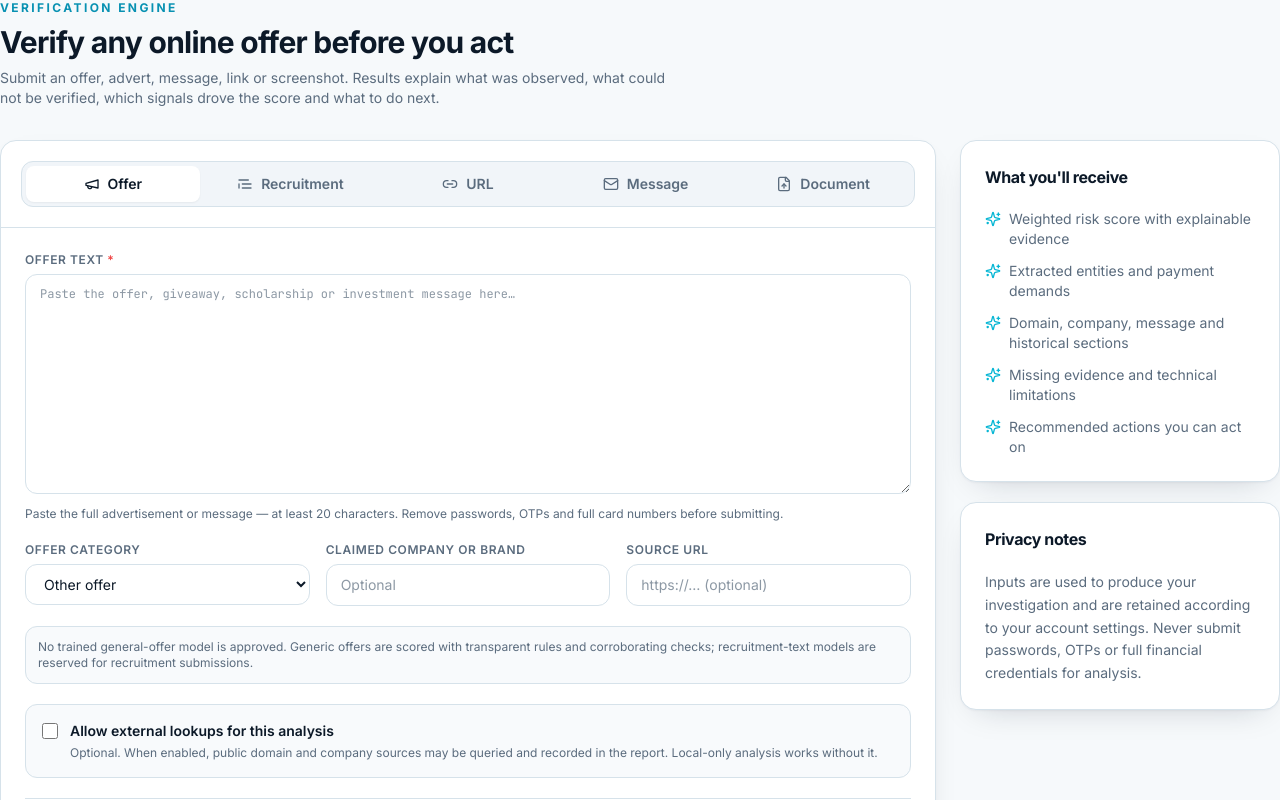
analysis workflow › validates URLs before submitting a URL analysis
Click the tab "URL": (468, 184) [381, 166, 555, 202]
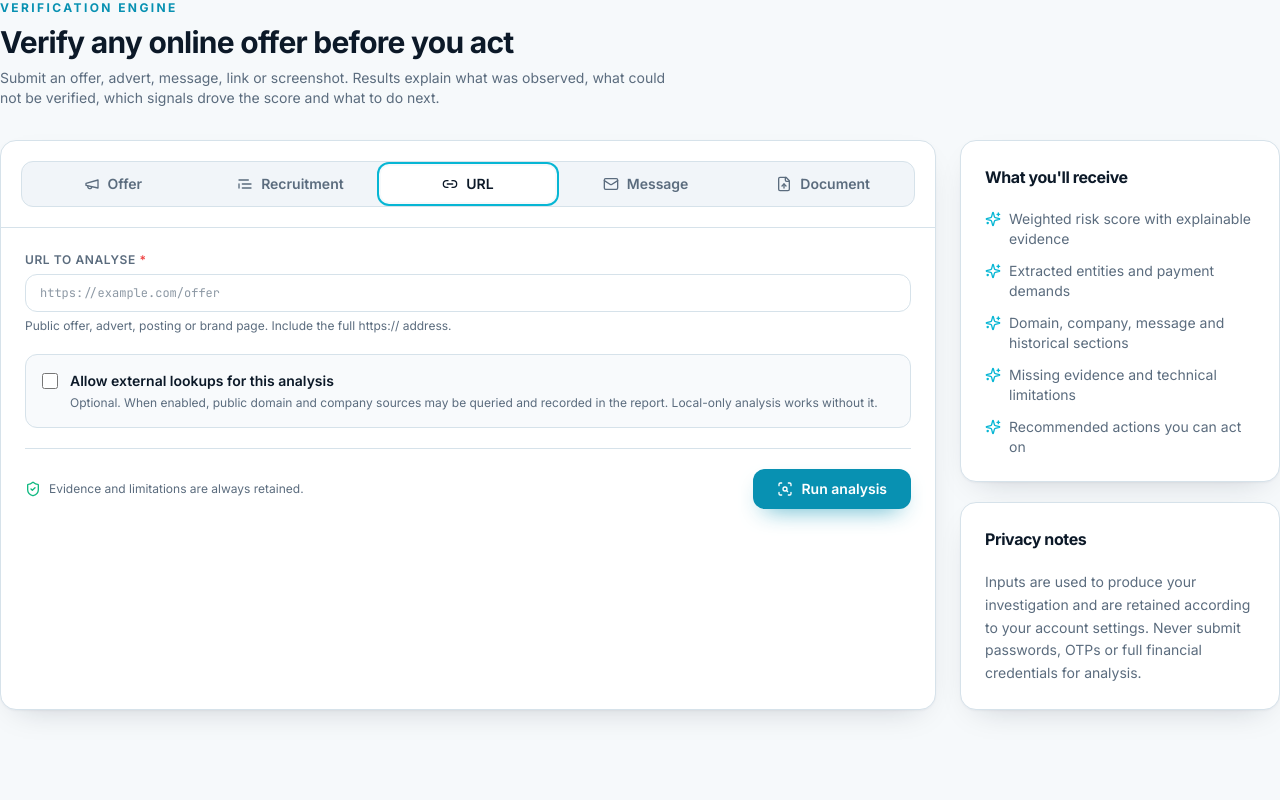
In the field labelled "URL to analyse *": (468, 293) [25, 274, 911, 312], type "not-a-url"
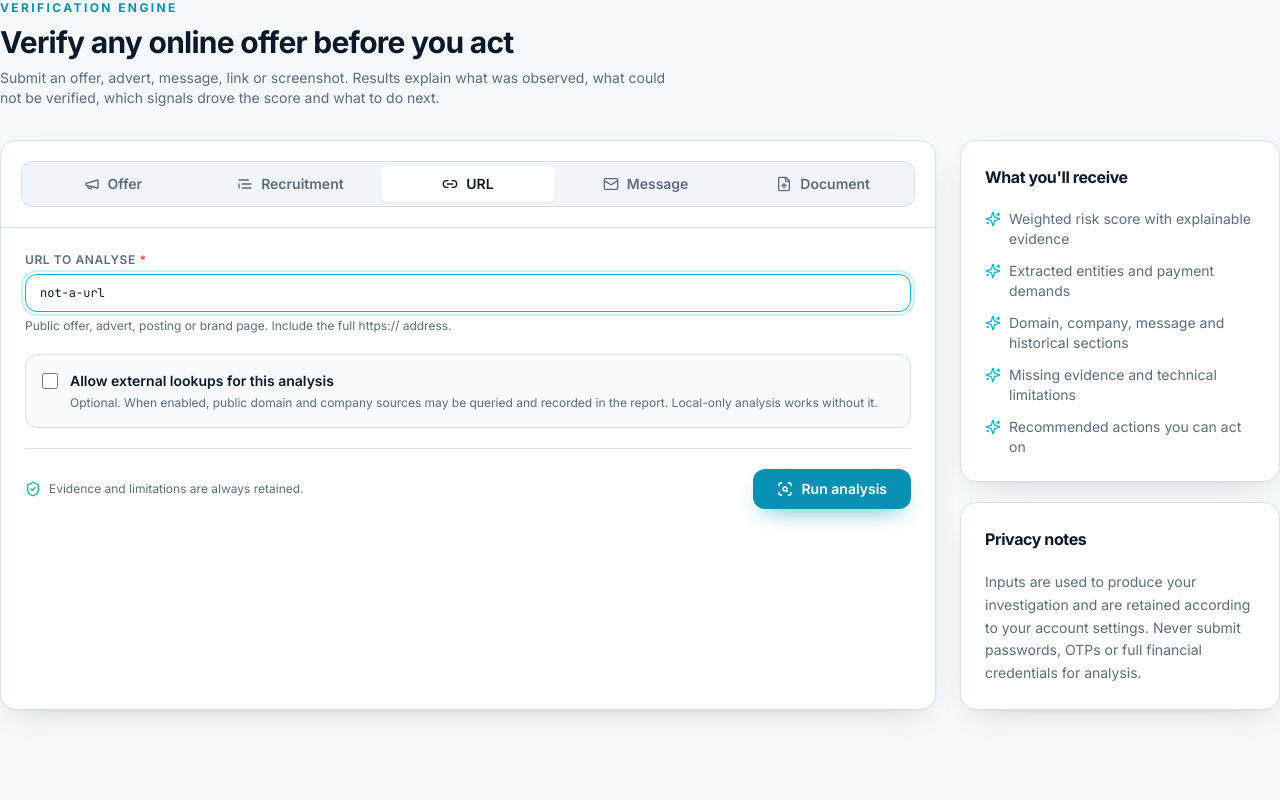
Click the button "Run analysis": (832, 489) [754, 469, 911, 509]
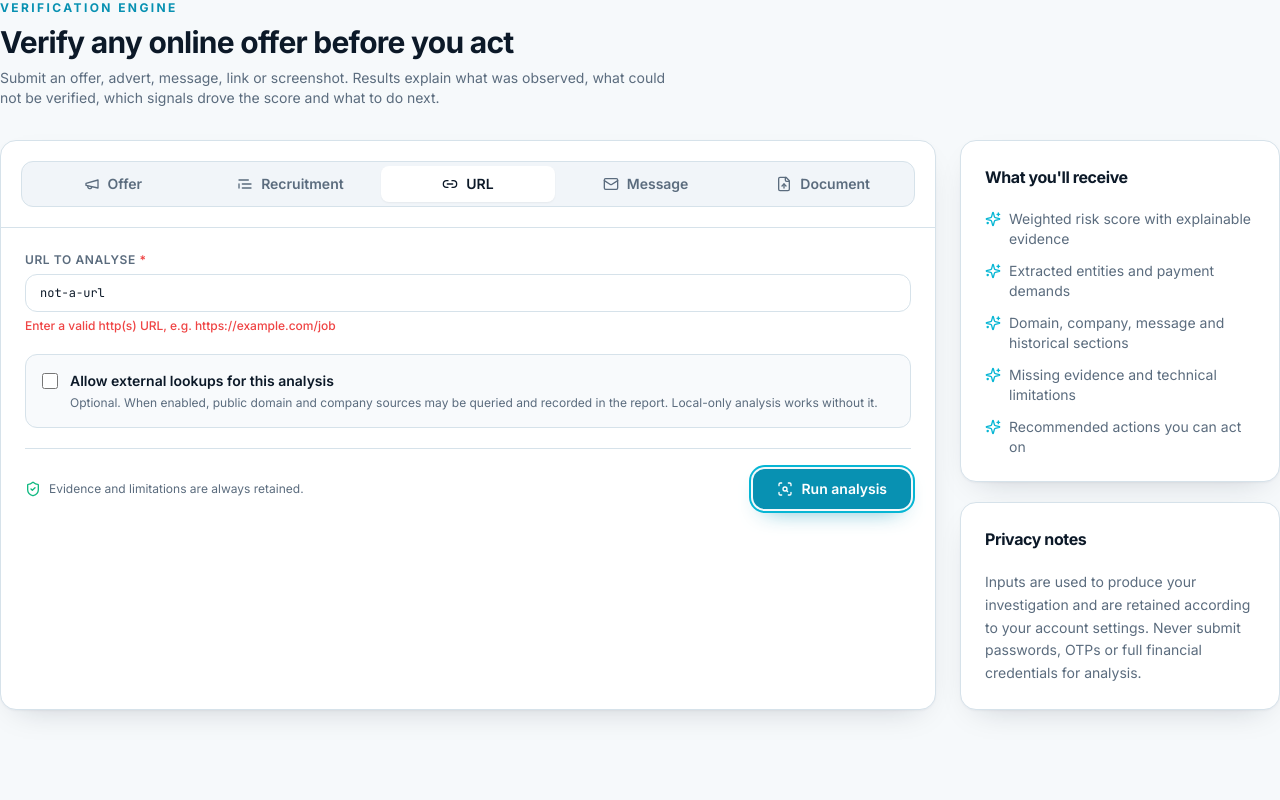
Expected: the text "Enter a valid http(s) URL, e.g. https://example.com/job" is shown, [25, 318, 336, 333]
